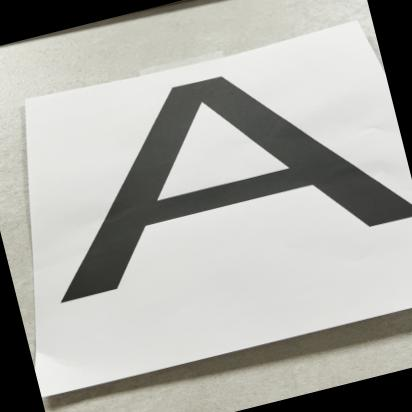seat: (40, 24, 412, 313)
